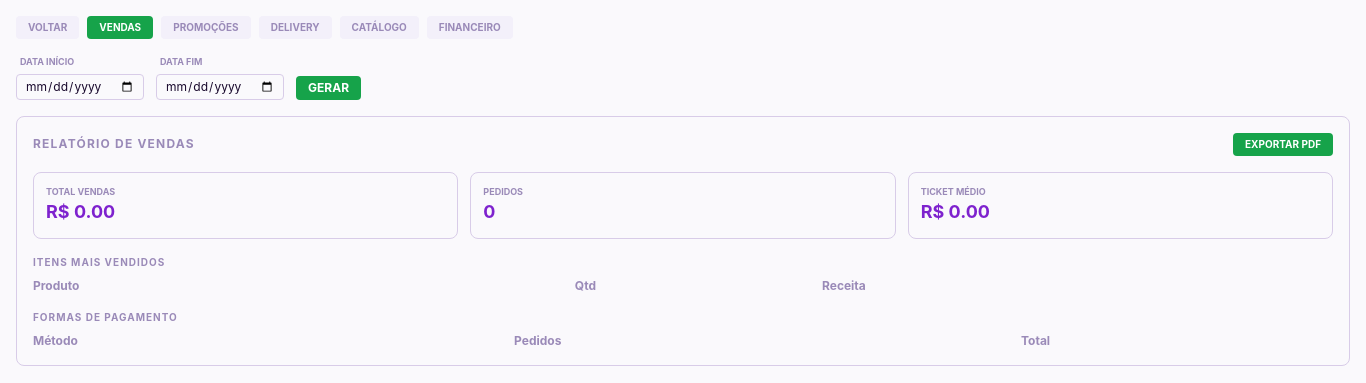
Test: ReportsScreen › switches to financial tab and shows KPIs
Click the button "Financeiro": coordinates (470, 28) 427,16 -> 513,39
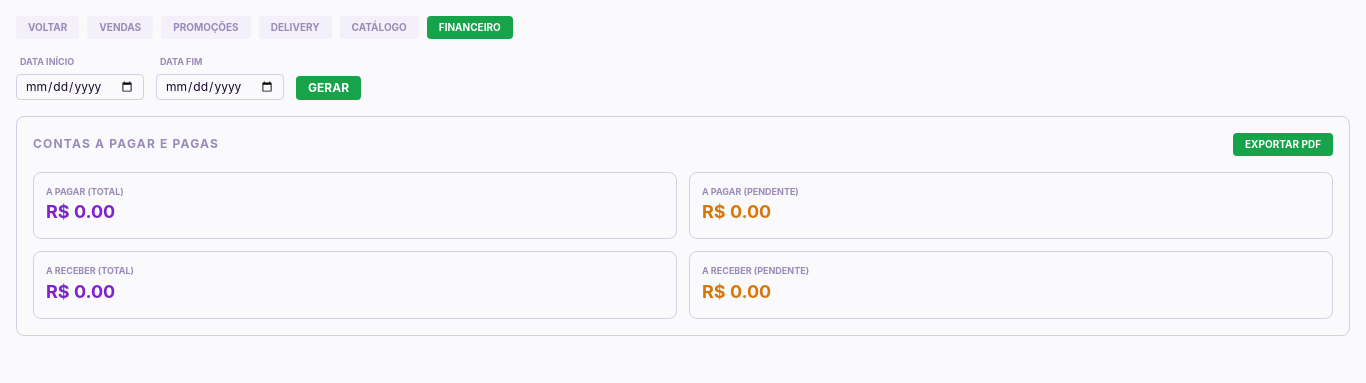
Now the text "A Pagar (Total)" is shown, box 46,186 -> 124,196
Now the text "A Pagar (Pendente)" is shown, box 702,186 -> 799,196
Now the text "A Receber (Total)" is shown, box 46,265 -> 134,276
